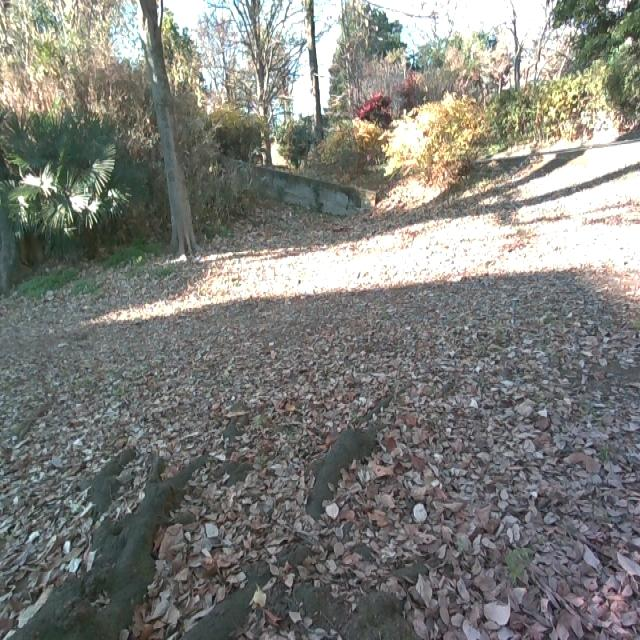artifact: (222, 149, 383, 226)
bush: (3, 97, 150, 283), (490, 46, 640, 147), (381, 87, 491, 193), (286, 113, 382, 185)
tree: (9, 415, 411, 640), (126, 0, 209, 268), (218, 0, 288, 183), (297, 0, 334, 148)
